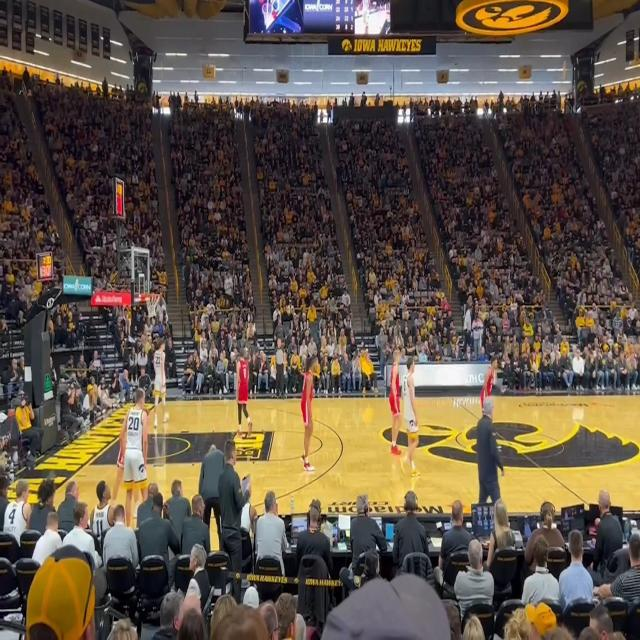Hoop: (145, 294, 161, 318)
Player: (112, 408, 150, 518), (119, 388, 148, 530), (400, 357, 421, 477), (300, 357, 317, 471), (153, 339, 170, 429), (235, 348, 252, 437), (388, 349, 402, 455), (480, 356, 498, 419)
Ref: (274, 338, 285, 400)
